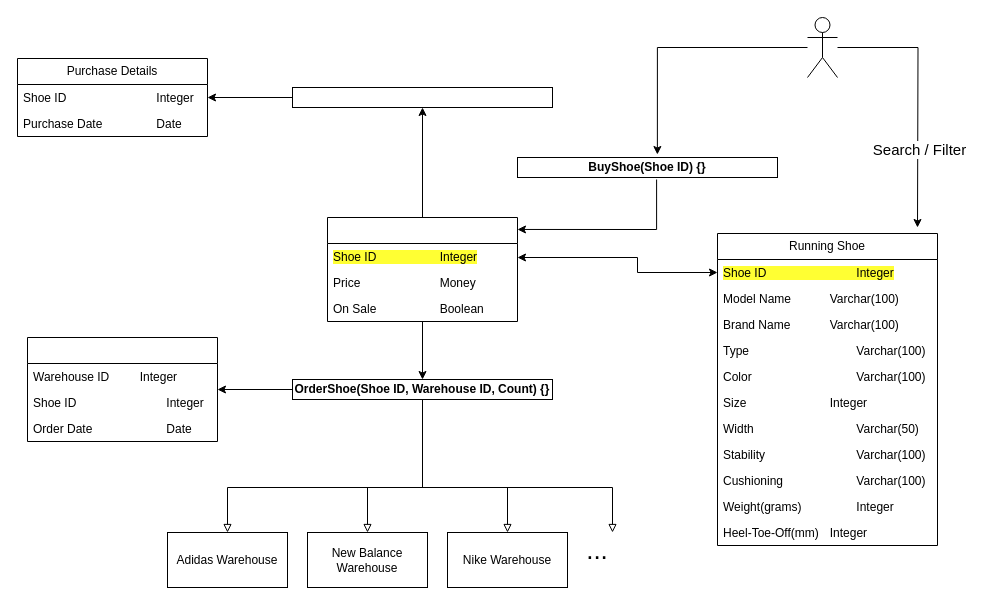
Image size: 983x605. Some labels were removed from this diagram. Each missing label, with the box of its shape:
Customer: (806, 16, 838, 78)
Order Details: (26, 336, 218, 442)
SellShoe(Shoe ID) {}: (292, 86, 552, 108)
Store Inventory: (326, 216, 518, 322)
